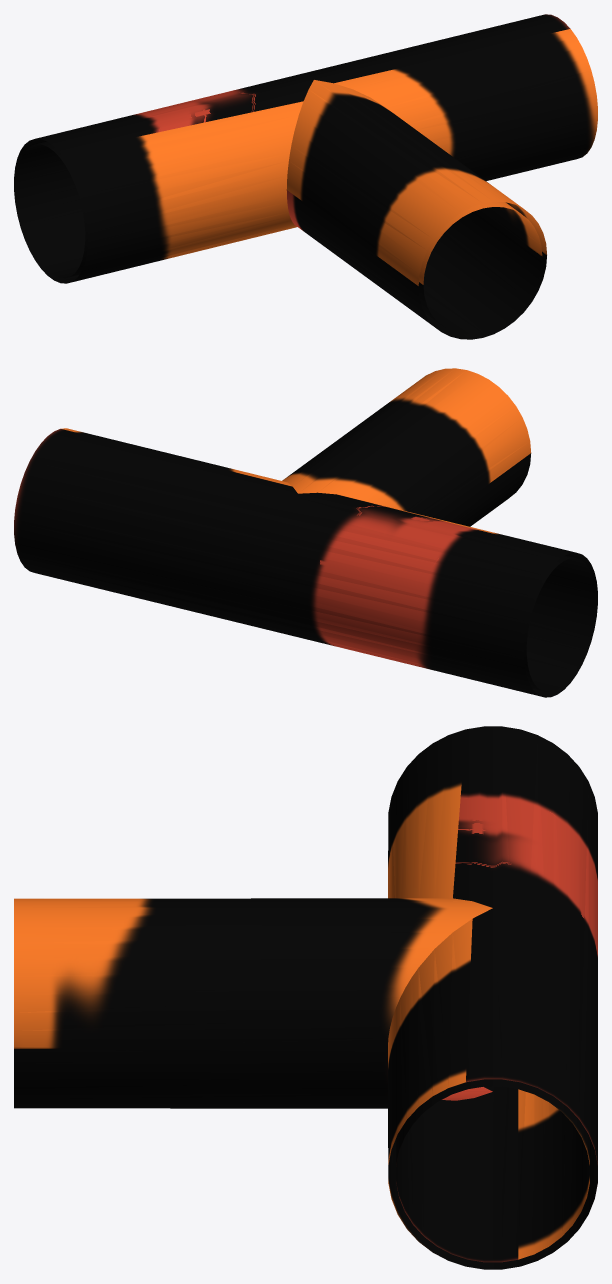
The model's file is NewTrube 1.fbx.
3 renders of one model, top to bottom at view 1: azimuth 30°, elevation 25°; view 2: azimuth 150°, elevation 25°; view 3: azimuth 270°, elevation 25°, orthographic. The views are drawn at different scales.
Parts seen in each view (by area): view 1: Пятый блок\Потрубок выходной из .001; view 2: Пятый блок\Потрубок выходной из .001; view 3: Пятый блок\Потрубок выходной из .001.
Part boxes in pixels (box(x1,y1,x2,y2)): Пятый блок\Потрубок выходной из .001: box(14, 14, 597, 339); Пятый блок\Потрубок выходной из .001: box(14, 368, 597, 697); Пятый блок\Потрубок выходной из .001: box(14, 726, 597, 1269).
Bounding box in the file's own units: 40598 × 10233 × 28386.
